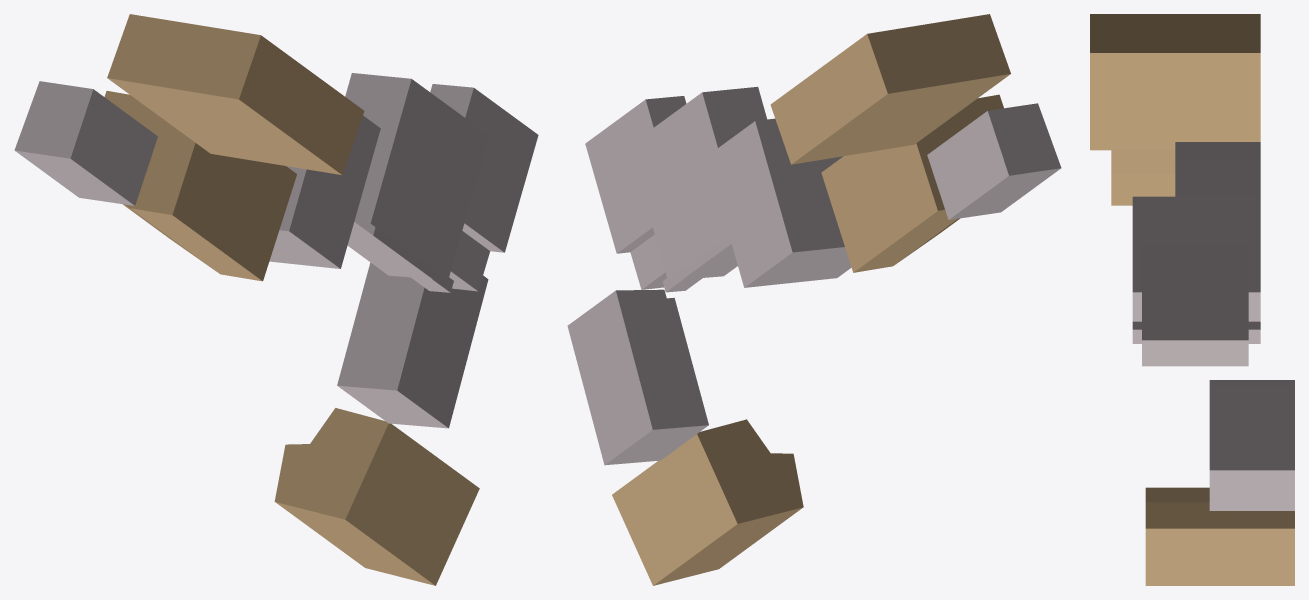
3 views of the same model, side by side, from view 1: azimuth 30°, elevation 25°; view 2: azimuth 150°, elevation 25°; view 3: azimuth 270°, elevation 25° (orthographic). The views are drawn at different scales.
Visible parts, largest first — view 1: 0_3_0_1_1_0_2_2; view 2: 0_3_0_1_1_0_2_2; view 3: 0_3_0_1_1_0_2_2.
Part boxes in pixels (x1,y1,x2,y2): 0_3_0_1_1_0_2_2: (14,14,538,585); 0_3_0_1_1_0_2_2: (567,14,1061,585); 0_3_0_1_1_0_2_2: (1090,14,1294,585).
Size of the model in its own units: 60.54 by 74.01 by 28.8.
